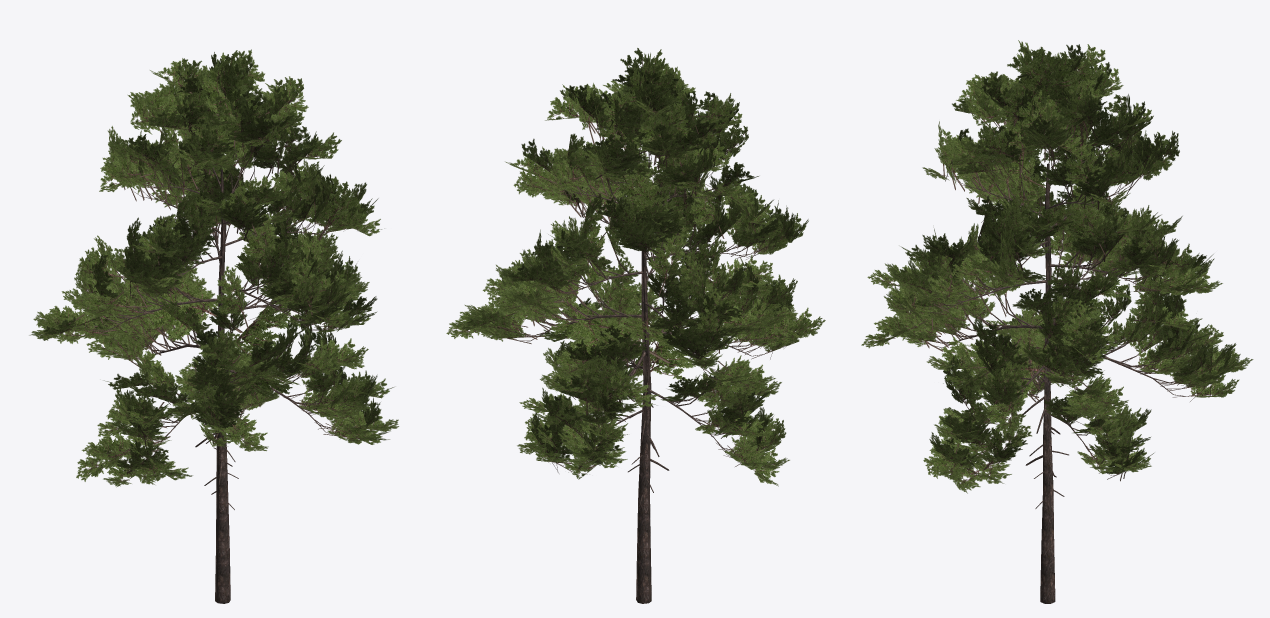
File: PineTree.glb
3 views of the same model, side by side, from view 1: azimuth 30°, elevation 25°; view 2: azimuth 150°, elevation 25°; view 3: azimuth 270°, elevation 25° (orthographic).
Parts seen in each view (by area): view 1: PineTree_19; view 2: PineTree_19; view 3: PineTree_19.
Boxes of the visible parts, <box> form: PineTree_19: <box>29,49,398,603</box>; PineTree_19: <box>446,48,825,603</box>; PineTree_19: <box>861,40,1253,603</box>.
Size of the model in its own units: 11.33 by 17.67 by 11.08.
Materials: 2 (2 with a texture image).
